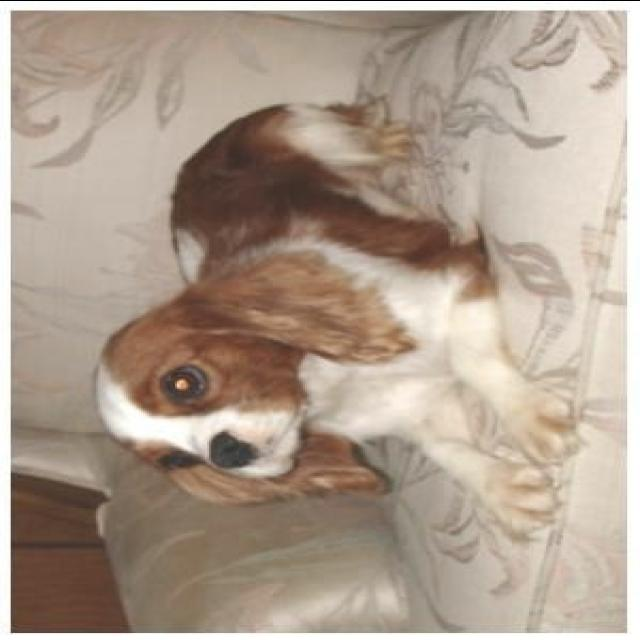blenheim_spaniel: (94, 96, 587, 546)
